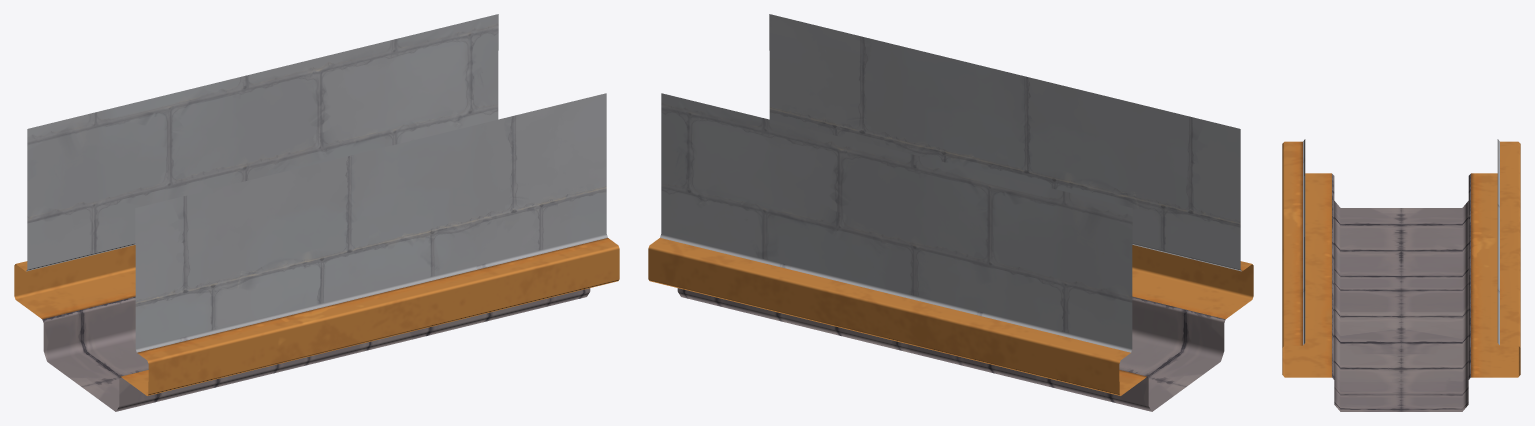
File: SM_WallArchBar.fbx
3 renders of one model, left to right at view 1: azimuth 30°, elevation 25°; view 2: azimuth 150°, elevation 25°; view 3: azimuth 270°, elevation 25°, orthographic. The views are drawn at different scales.
Parts seen in each view (by area): view 1: SM_WallArchBar; view 2: SM_WallArchBar; view 3: SM_WallArchBar.
Part boxes in pixels (box(x1,y1,x2,y2)): SM_WallArchBar: box(14, 14, 619, 411); SM_WallArchBar: box(648, 14, 1253, 411); SM_WallArchBar: box(1282, 139, 1520, 411).
Size of the model in its own units: 2 by 0.8855 by 0.9877.
